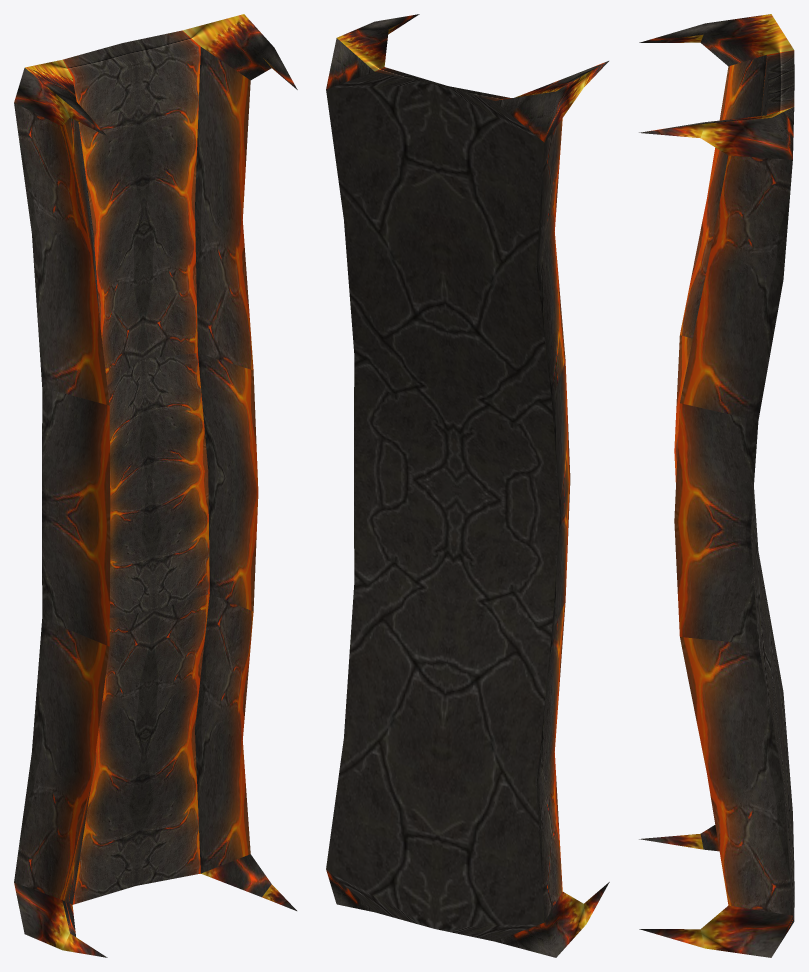
File: bridge_11.obj
3 renders of one model, left to right at view 1: azimuth 30°, elevation 25°; view 2: azimuth 150°, elevation 25°; view 3: azimuth 270°, elevation 25°, orthographic. The views are drawn at different scales.
Visible parts, largest first — view 1: (null); view 2: (null); view 3: (null).
Boxes of the visible parts, left/top/right/bottom form: (null): left=14, top=14, right=297, bottom=957; (null): left=326, top=14, right=609, bottom=957; (null): left=639, top=14, right=794, bottom=957.
Bounding box in the file's own units: 2.04 × 7.69 × 1.3.
